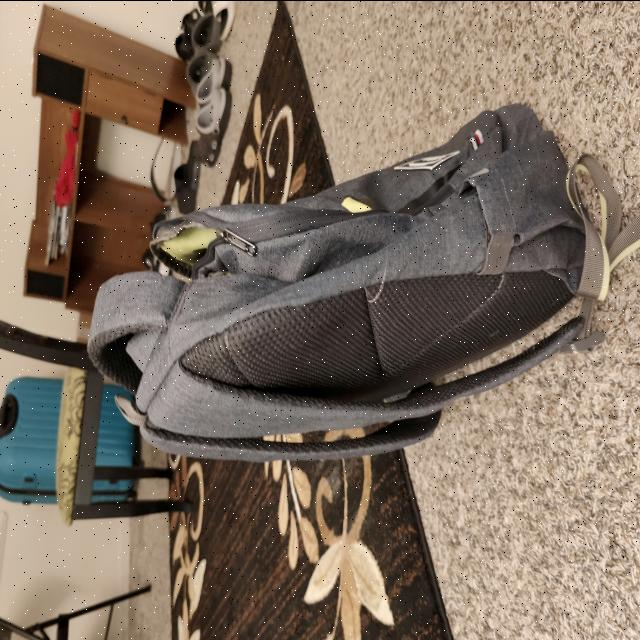bag: (86, 93, 590, 450)
